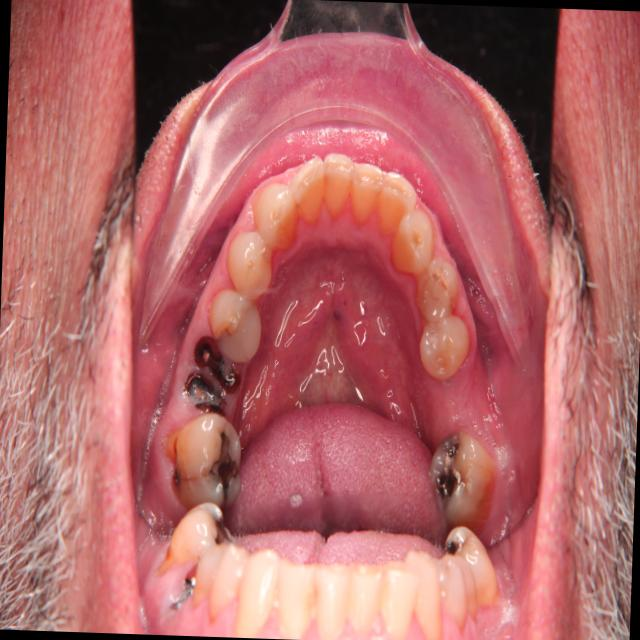tooth: (156, 411, 251, 516), (422, 425, 494, 528), (204, 279, 266, 369), (409, 247, 465, 324), (415, 310, 473, 384), (246, 179, 301, 256), (223, 224, 276, 302), (388, 206, 437, 278), (316, 146, 357, 228), (288, 146, 327, 232), (377, 165, 419, 241), (349, 156, 384, 227)
